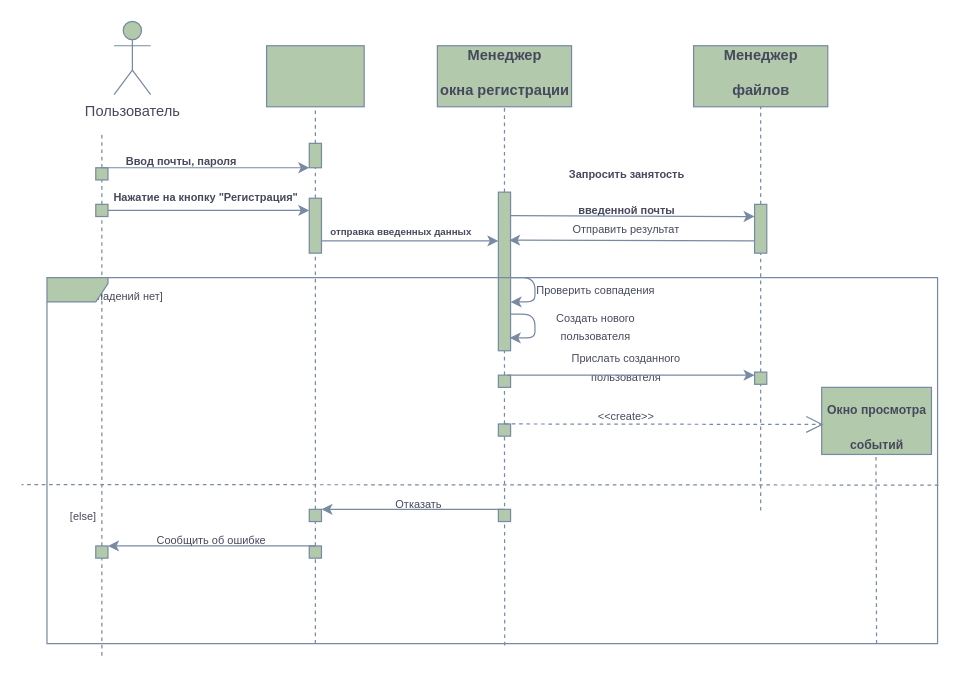
The diagram is 961 pixels wide and 678 high, and some of its shapes have lost their labels. The box of each missing label's shape, as (x1, y1, x2, y2) in pixels:
alt: (46, 276, 938, 644)
Окно регистрации: (265, 45, 364, 107)
